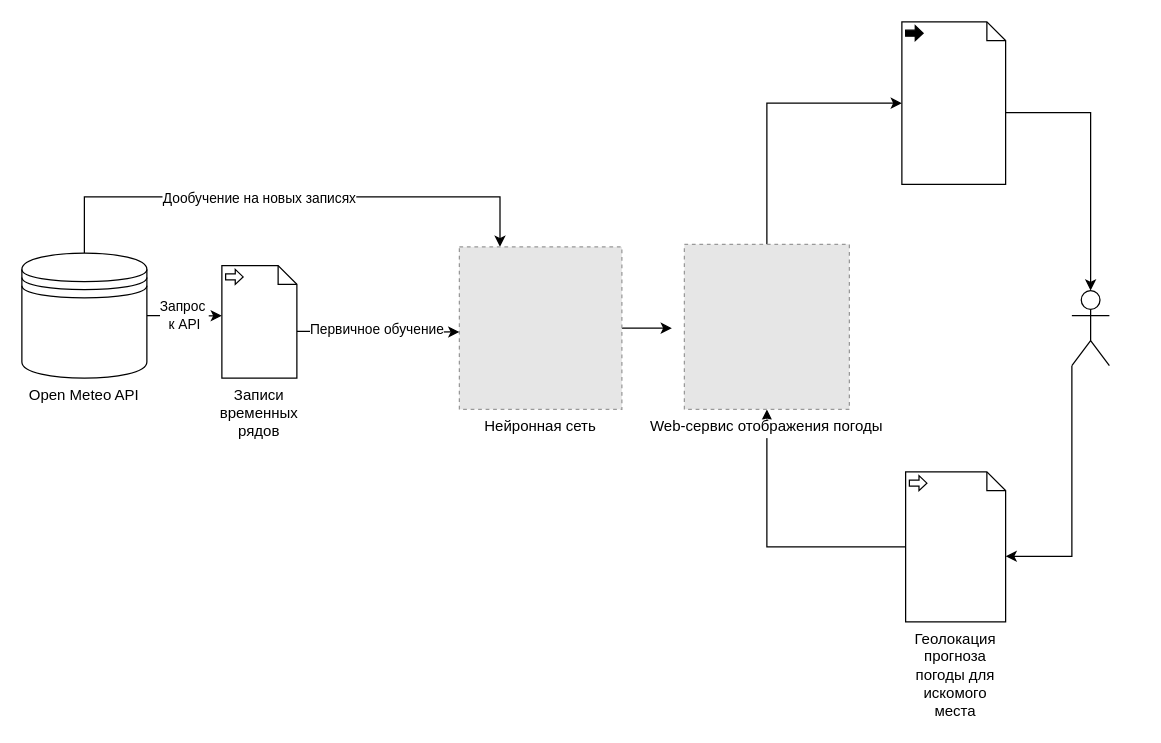
Image size: 1161x743. Some labels were removed from this diagram. Grey dashed boxes stand in for pictures. The shapes that lost their labels are listed below. From the top down, each one's box as (x1, y1, x2, y2) in pixels, then its label:
(901, 21, 1006, 184): Прогноз погоды для искомого места
(1071, 289, 1109, 366): Пользователь
